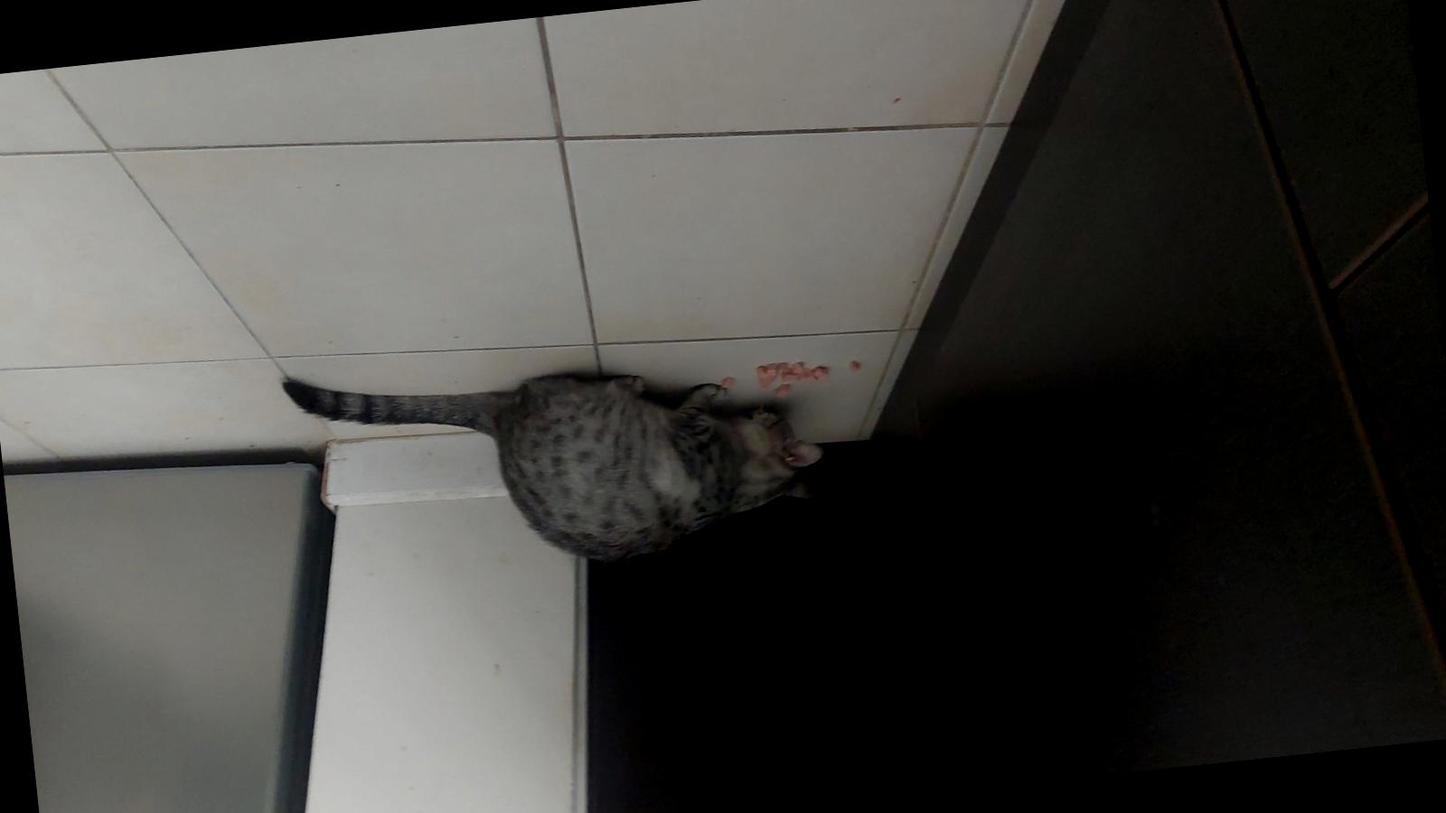macka: (279, 324, 833, 597)
